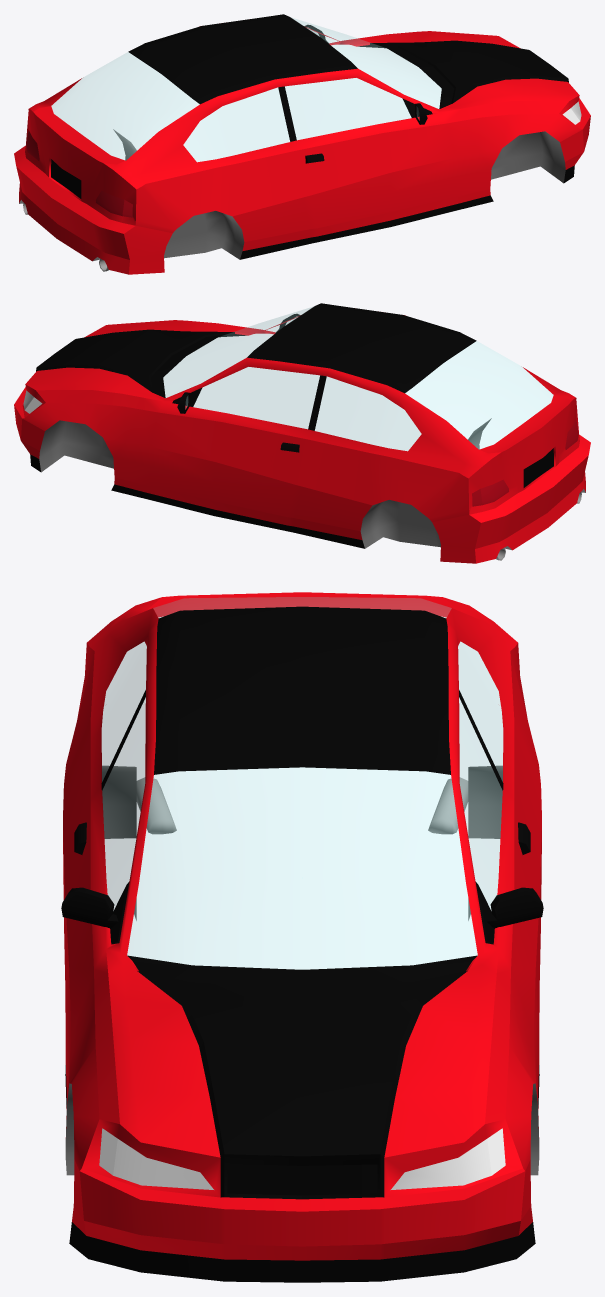
Rendered from civic.gltf.
3 renders of one model, top to bottom at view 1: azimuth 30°, elevation 25°; view 2: azimuth 150°, elevation 25°; view 3: azimuth 270°, elevation 25°, orthographic. The views are drawn at different scales.
Visible parts, largest first — view 1: Cube; view 2: Cube; view 3: Cube.
Part boxes in pixels (x1=…): Cube: x1=14, y1=14, x2=590, y2=274; Cube: x1=14, y1=303, x2=590, y2=563; Cube: x1=61, y1=592, x2=543, y2=1282.
Size of the model in its own units: 3.28 by 0.968 by 1.34.
